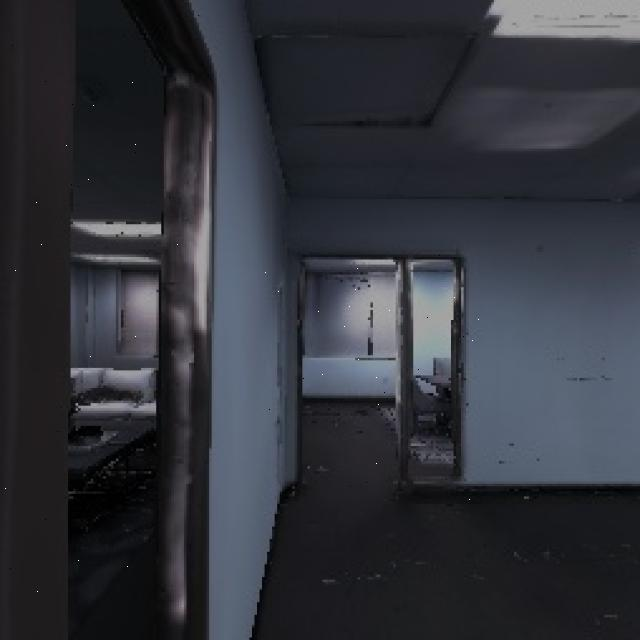door-frame: (0, 0, 234, 640), (261, 249, 479, 504)
